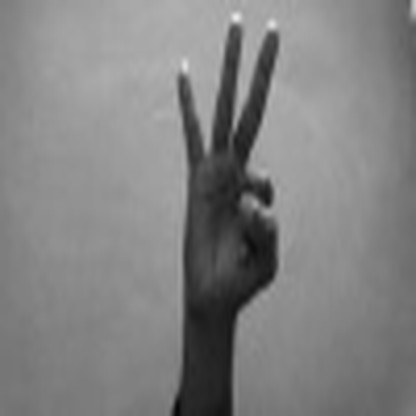f: (158, 8, 305, 313)
